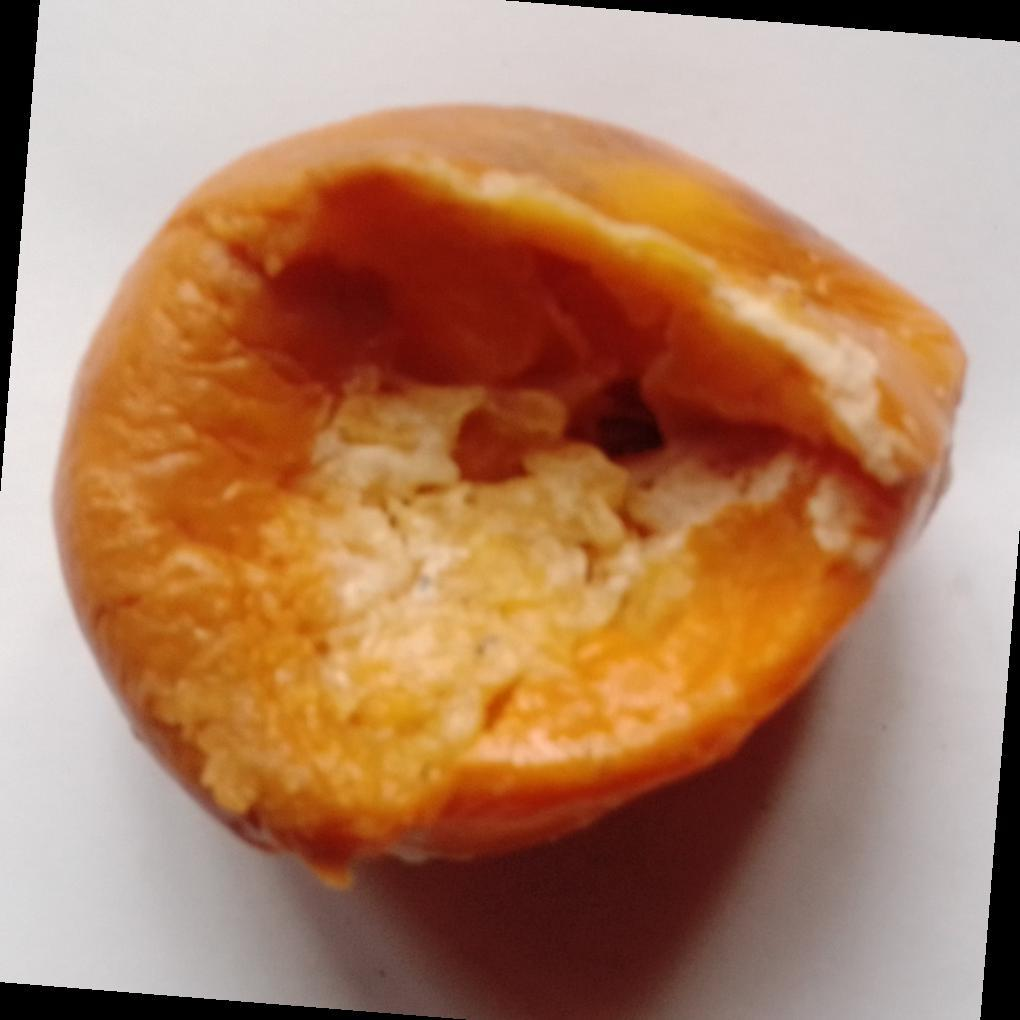FreshOrange: (49, 105, 970, 895)
